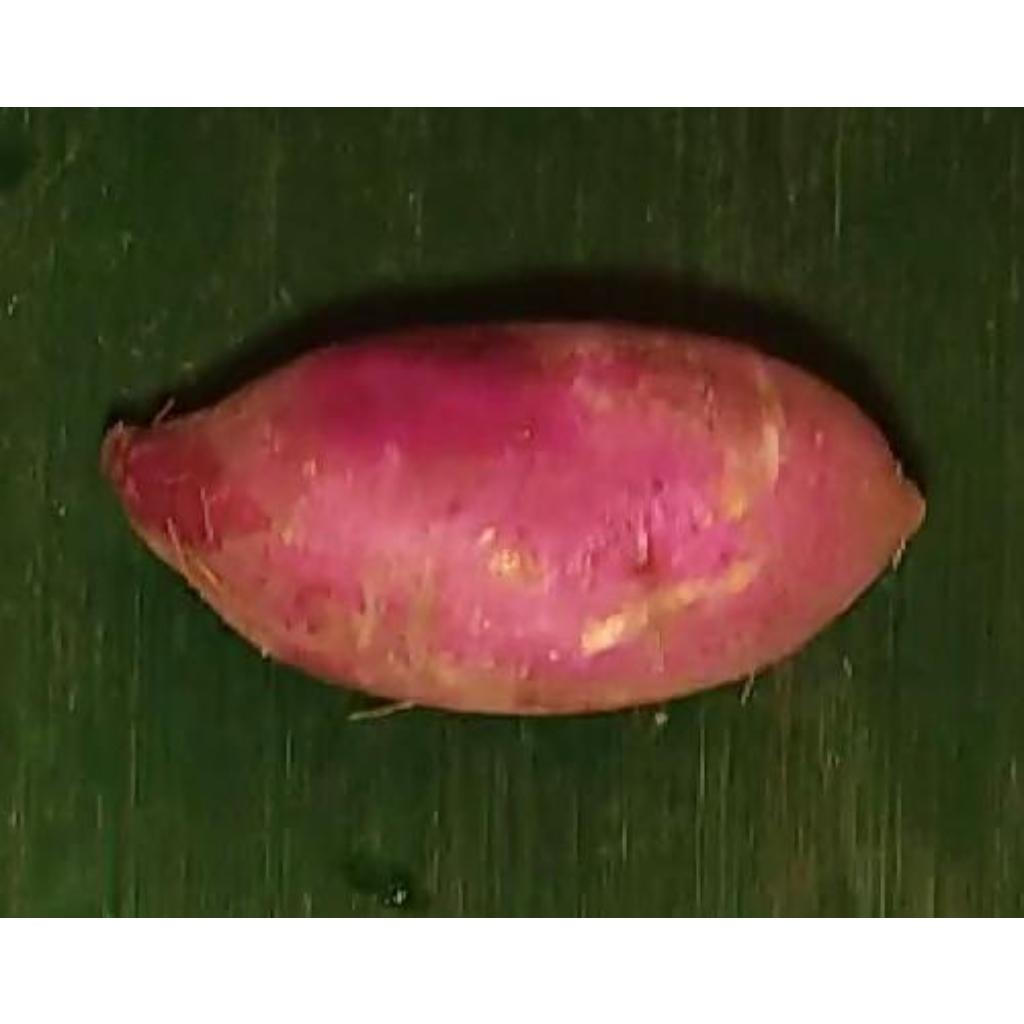Sweet Potato: (100, 323, 922, 712)
